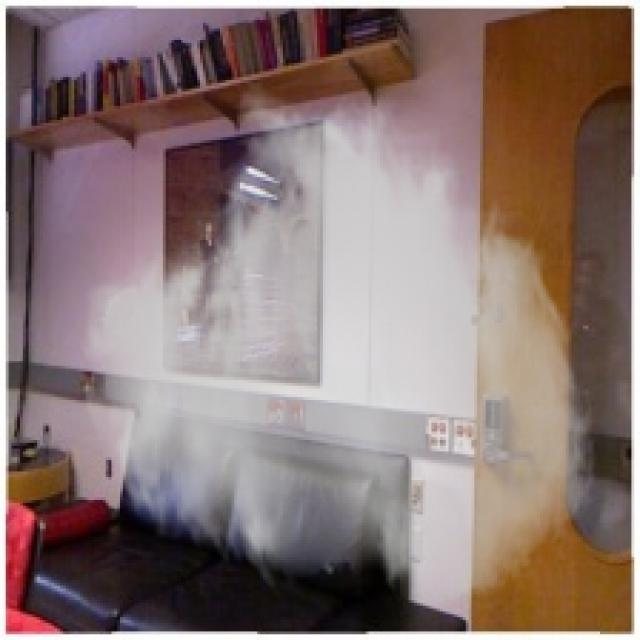smoke: (77, 80, 600, 609)
